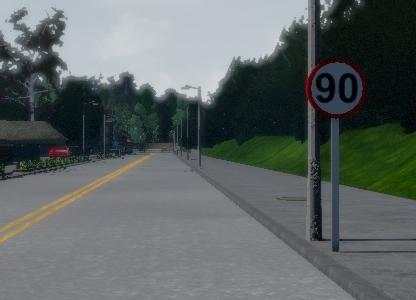Speed_90: (303, 59, 364, 121)
